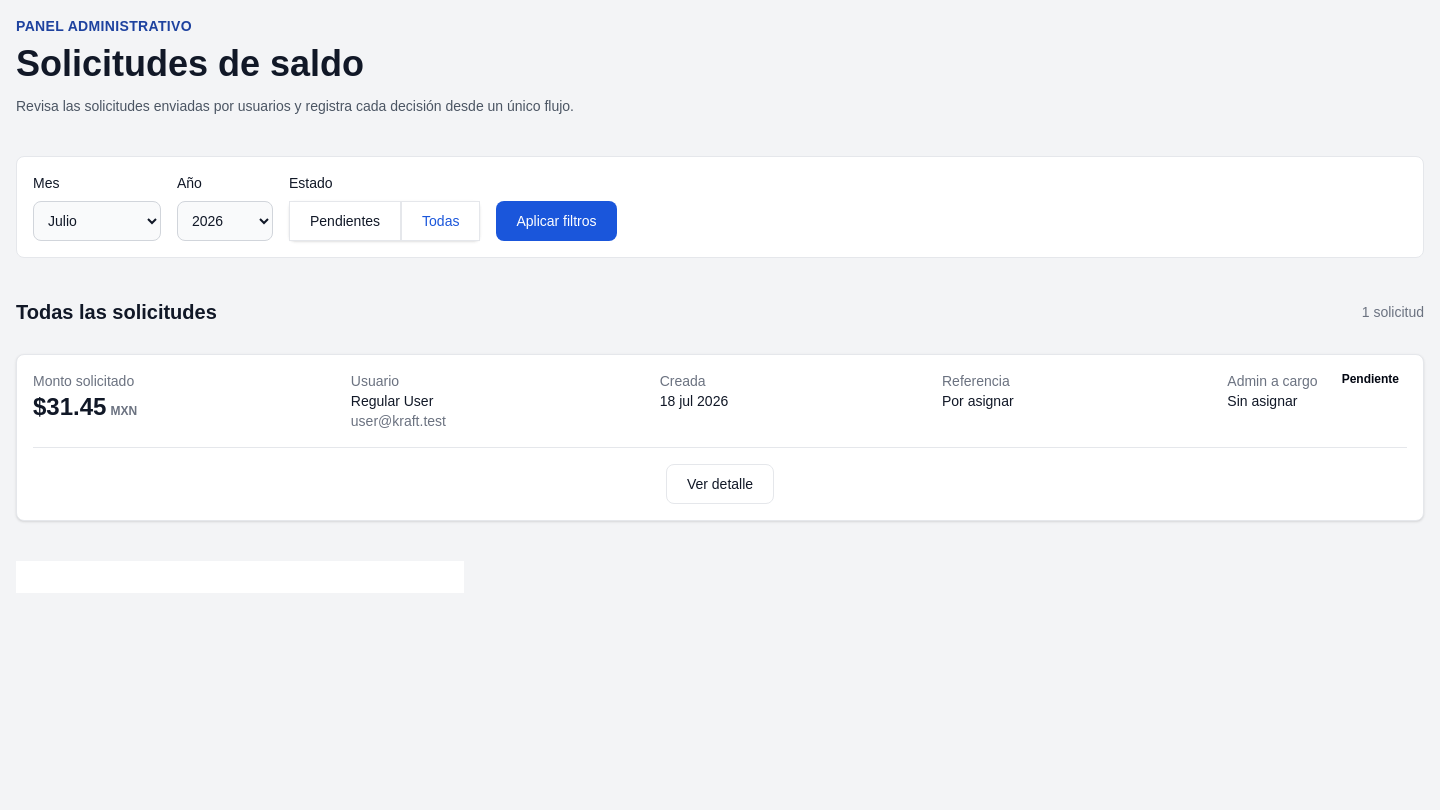
it: BalanceAdminScreen › opens the detail drawer with the reused row data on Ver detalle
The image size is (1440, 810).
Click the button "Ver detalle": (720, 484) [666, 464, 774, 504]
(page scrolled)
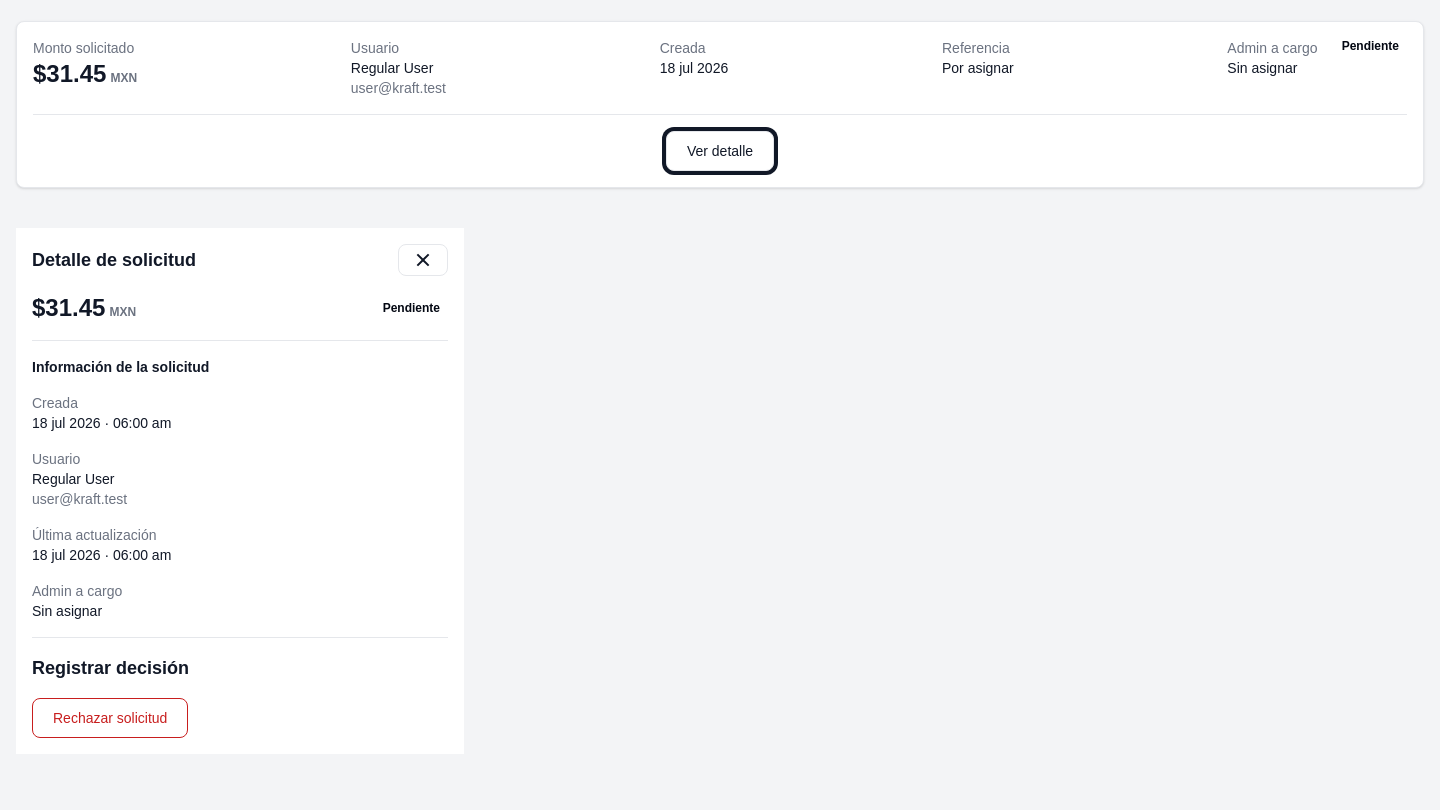
Expected: the text "user@kraft.test" below "Monto solicitado" is shown, [351, 80, 446, 96]
Expected: the heading "Detalle de solicitud" is shown, [32, 246, 196, 274]
